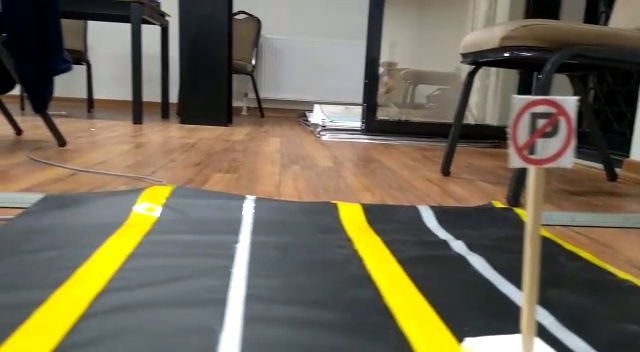park_yapilmaz: (504, 96, 577, 169)
